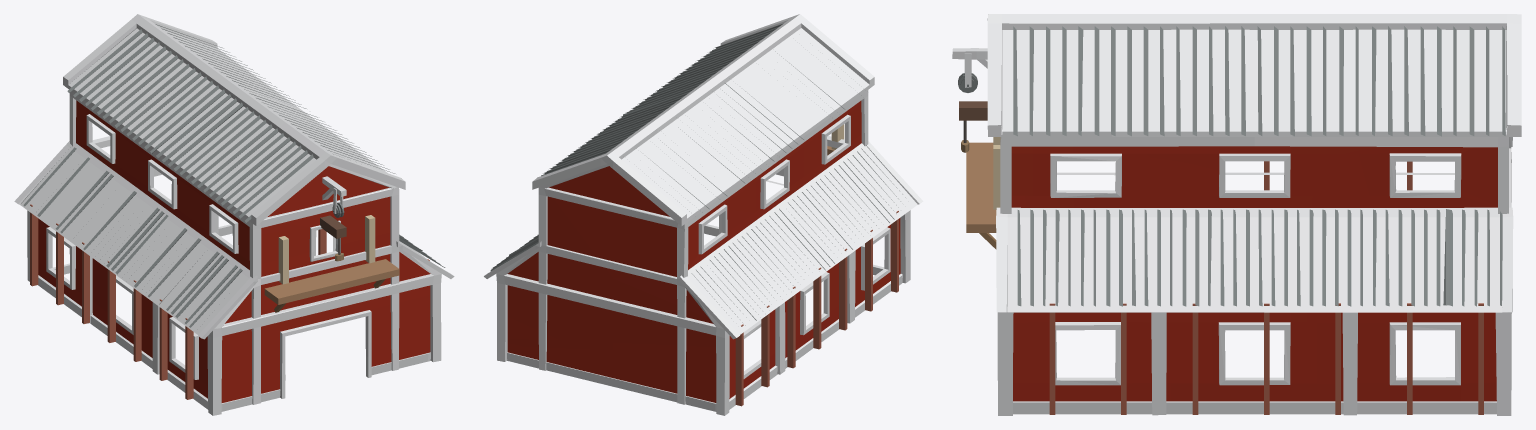
The model's file is barn_A6UkPq33aZ.glb.
3 views of the same model, side by side, from view 1: azimuth 30°, elevation 25°; view 2: azimuth 150°, elevation 25°; view 3: azimuth 270°, elevation 25° (orthographic). The views are drawn at different scales.
Parts seen in each view (by area): view 1: Barn, Hayloft_hood_and_hoist; view 2: Barn, Hayloft_hood_and_hoist; view 3: Barn, Hayloft_hood_and_hoist.
Part boxes in pixels (x1=…): Barn: x1=14, y1=14, x2=454, y2=415; Hayloft_hood_and_hoist: x1=30, y1=204, x2=429, y2=399; Barn: x1=484, y1=14, x2=923, y2=415; Hayloft_hood_and_hoist: x1=735, y1=124, x2=898, y2=406; Barn: x1=952, y1=14, x2=1521, y2=415; Hayloft_hood_and_hoist: x1=959, y1=101, x2=1483, y2=414.
Size of the model in its own units: 0.4989 by 0.4441 by 0.704.
8 materials, 1 textured.
